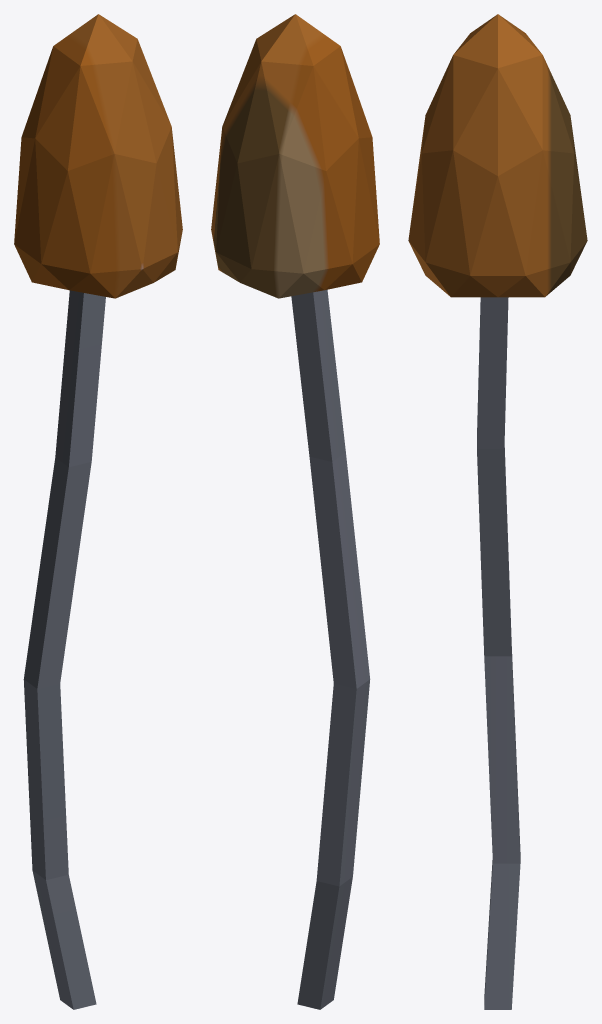
The model's file is Mushroom_05.fbx.
3 renders of one model, left to right at view 1: azimuth 30°, elevation 25°; view 2: azimuth 150°, elevation 25°; view 3: azimuth 270°, elevation 25°, orthographic.
Parts seen in each view (by area): view 1: Mushroom_05; view 2: Mushroom_05; view 3: Mushroom_05.
Part boxes in pixels (x1,y1,x2,y2): Mushroom_05: (14,14,182,1009); Mushroom_05: (211,14,379,1009); Mushroom_05: (408,14,587,1009).
Size of the model in its own units: 0.104 by 0.6905 by 0.1121.
